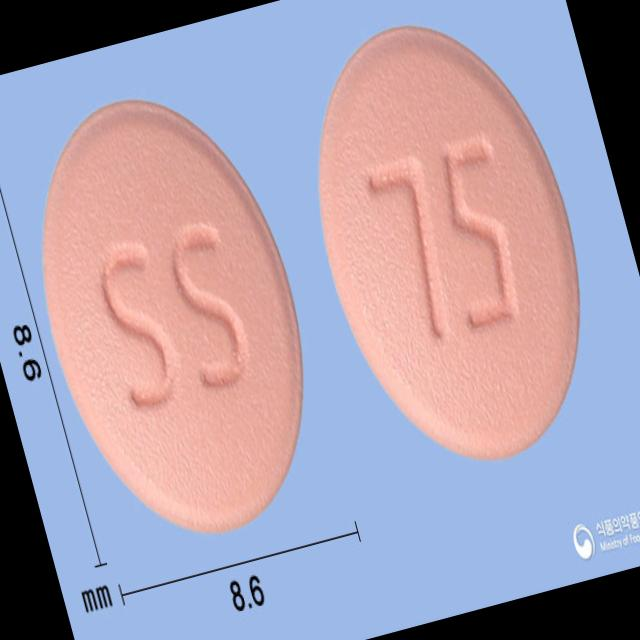Clozex: (271, 0, 624, 490), (0, 66, 346, 562)
